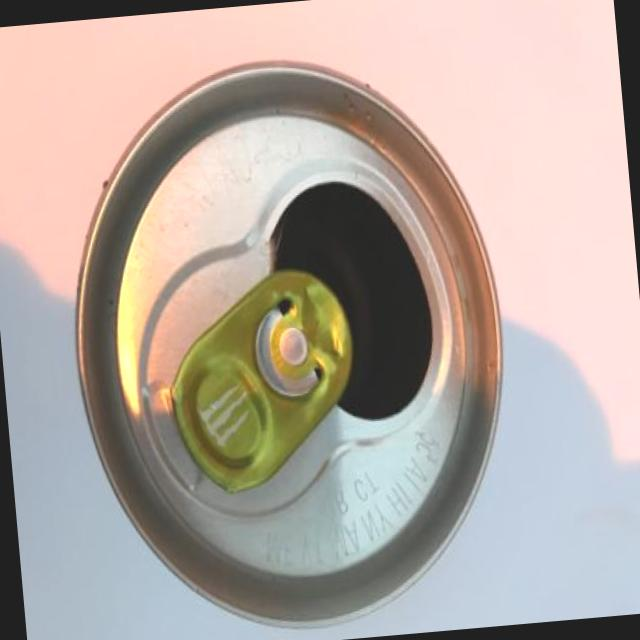kim_loai: (72, 60, 505, 633)
